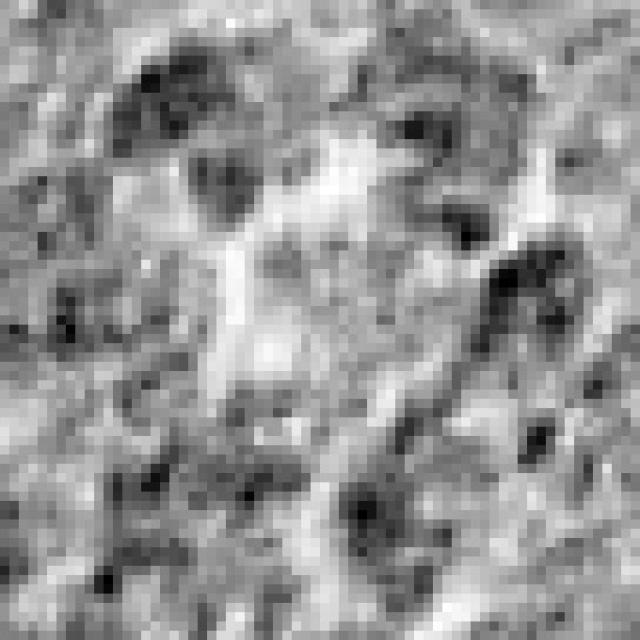inner: (246, 174, 460, 434)
lobe: (1, 160, 229, 441), (87, 380, 321, 636), (321, 21, 553, 270), (93, 13, 337, 243), (330, 372, 505, 638), (445, 225, 611, 391)
outer: (0, 0, 640, 640)
